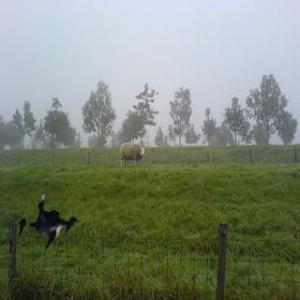drone: (5, 169, 99, 263)
